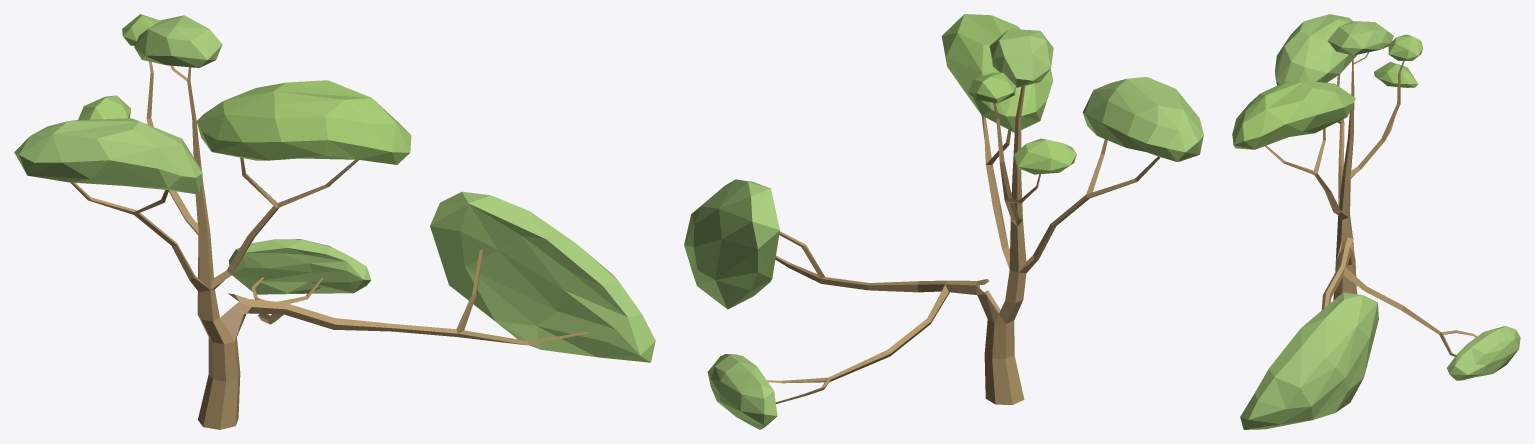
File: acaciatree2.fbx
The picture shows the model from 3 angles, left to right: view 1: azimuth 30°, elevation 25°; view 2: azimuth 150°, elevation 25°; view 3: azimuth 270°, elevation 25°; orthographic projection. The views are drawn at different scales.
Parts seen in each view (by area): view 1: Acacia_Tree_crk_l_01; view 2: Acacia_Tree_crk_l_01; view 3: Acacia_Tree_crk_l_01.
Part boxes in pixels (bbox=[...]): Acacia_Tree_crk_l_01: bbox=[14, 14, 655, 429]; Acacia_Tree_crk_l_01: bbox=[684, 14, 1203, 429]; Acacia_Tree_crk_l_01: bbox=[1232, 14, 1520, 429].
Bounding box in the file's own units: 1085 × 1783 × 1181.
1 material, 1 textured.
